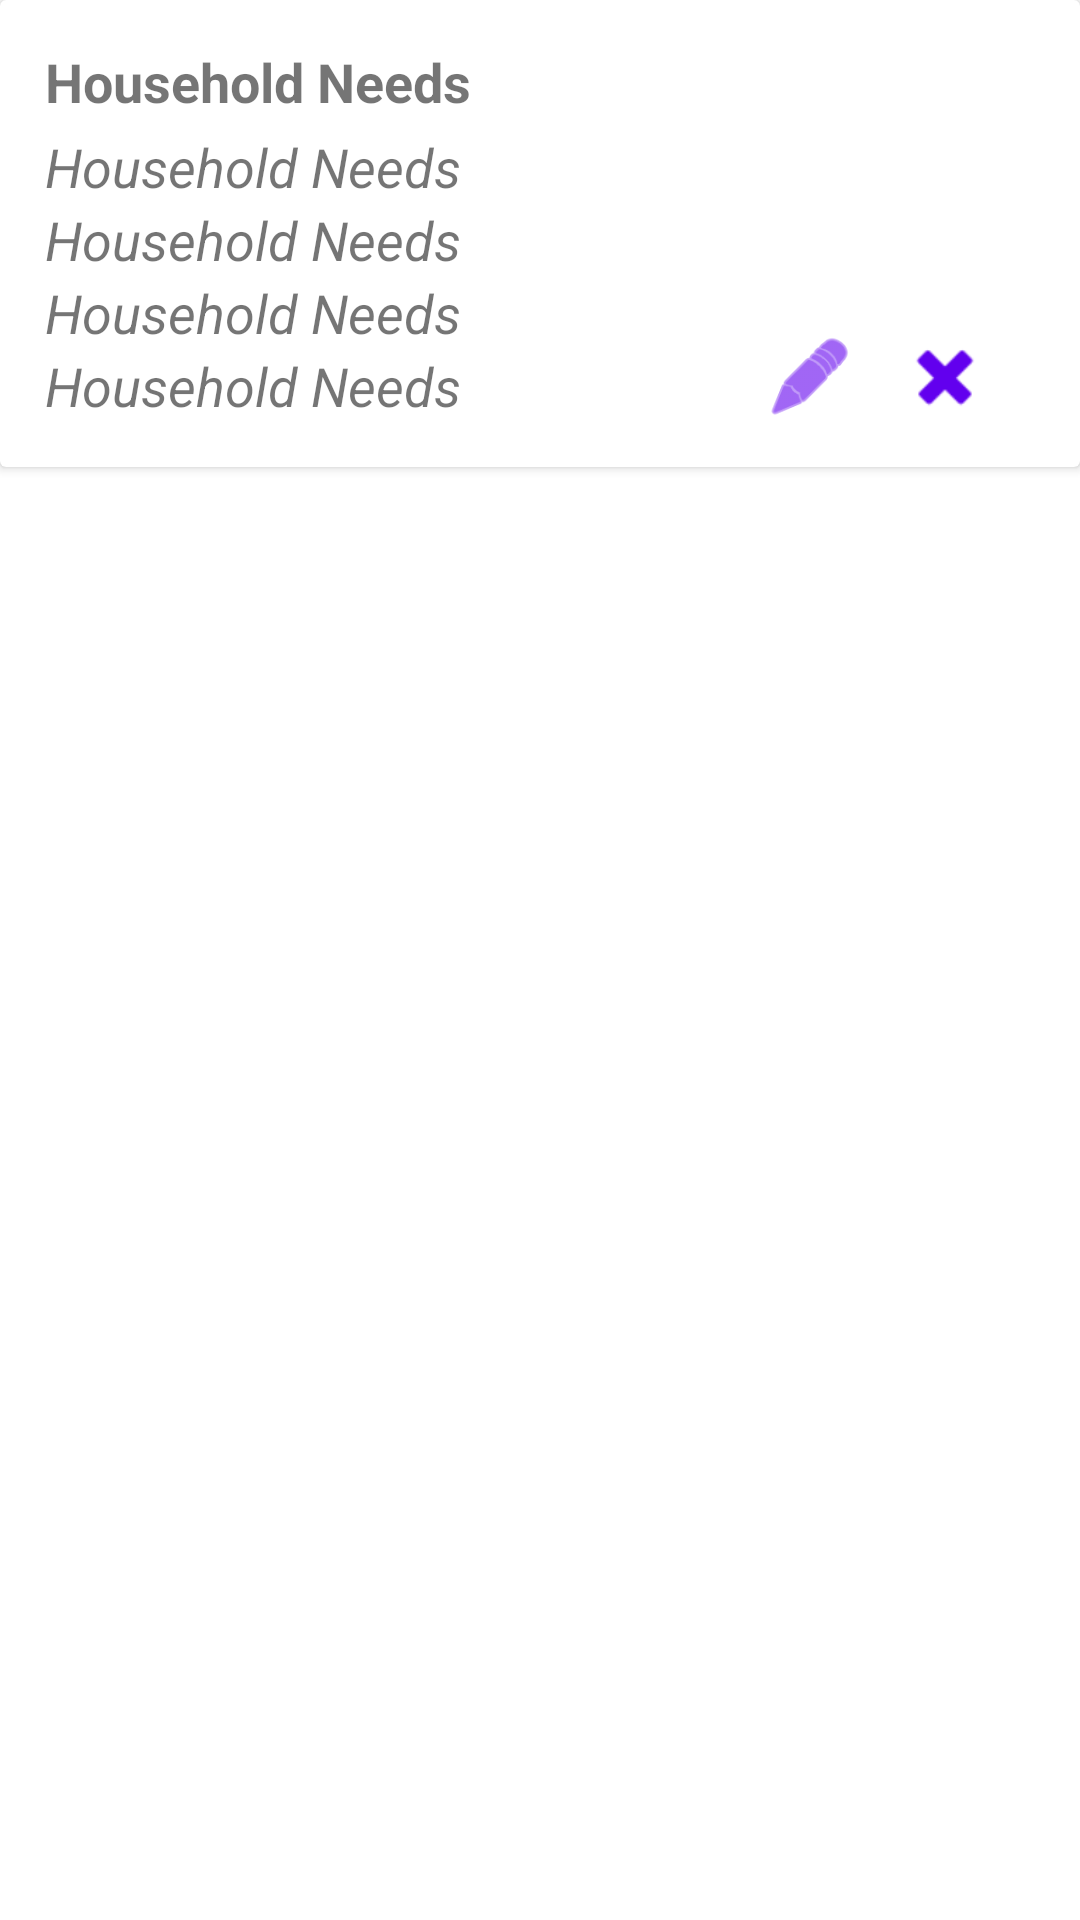

Where icons sit on this 1080 × 1920 app screen, as {"x1": x1, "y1": y1, "x2": x2, "y2": y2}:
delete: {"x1": 916, "y1": 350, "x2": 974, "y2": 405}
edit: {"x1": 771, "y1": 338, "x2": 848, "y2": 415}
